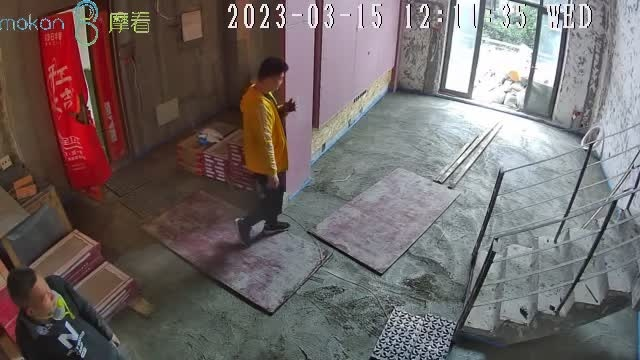people: (234, 57, 296, 246)
window: (443, 1, 571, 121)
